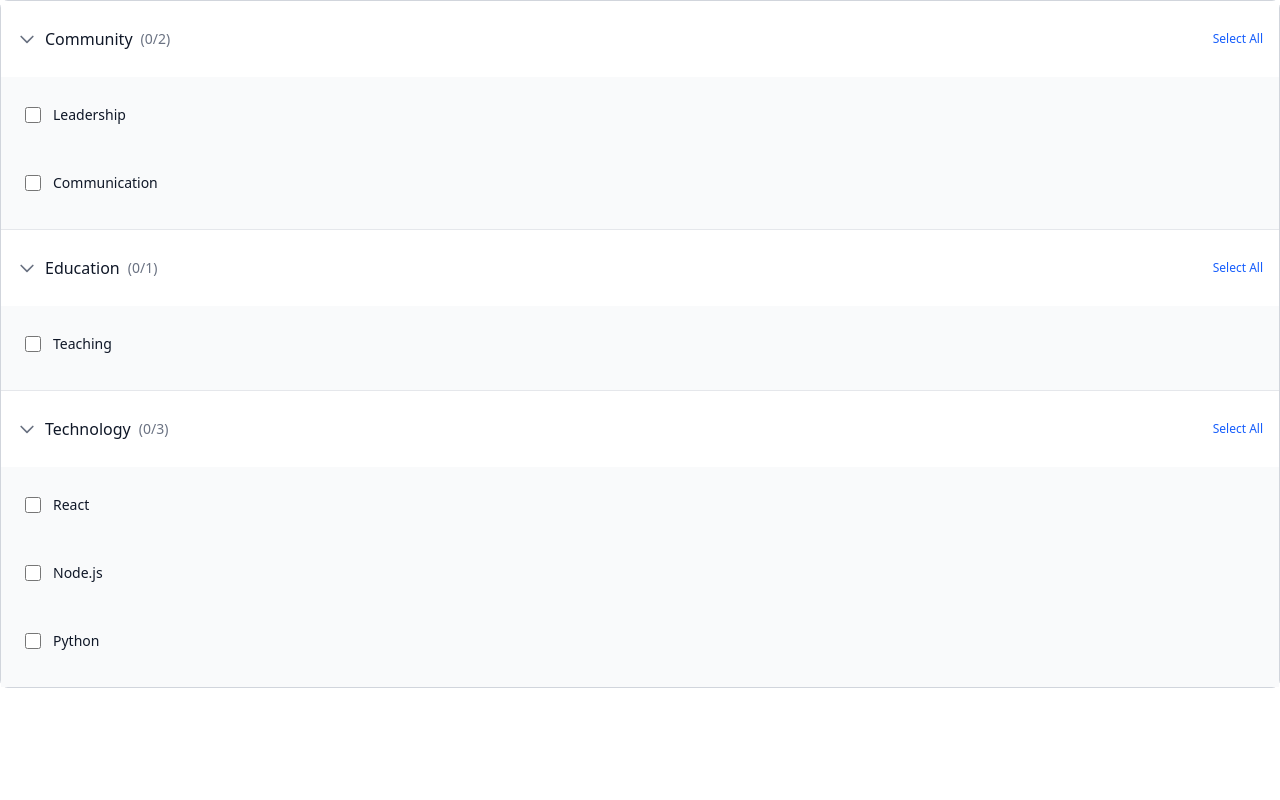
it: SkillSelector › collapses and expands categories on header click
Check: the text "React" is shown, box [53,495,89,515]
Click Technology header to collapse
Click the text "Technology" at (88, 429), box [45,417,131,441]
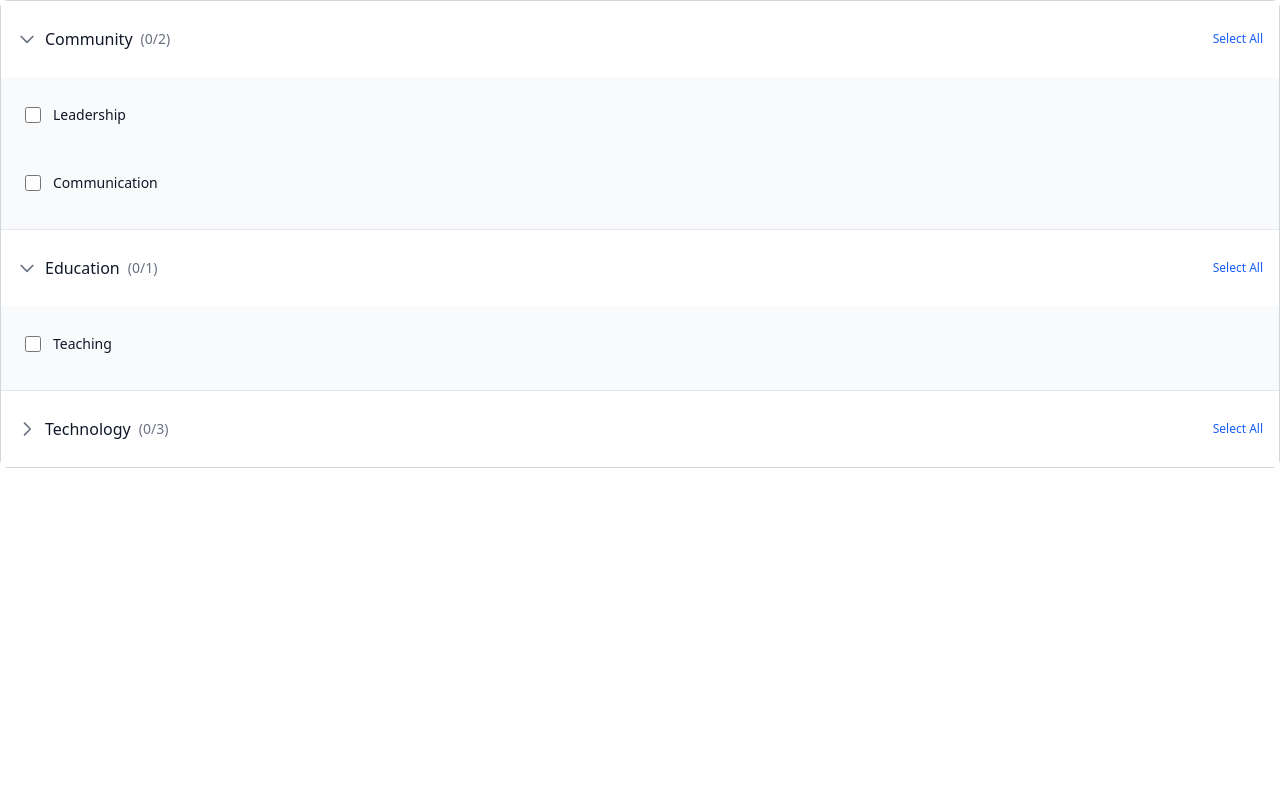
Check: the text "React" is gone
Click again to expand
Click the text "Technology" at (88, 429), box [45,417,131,441]
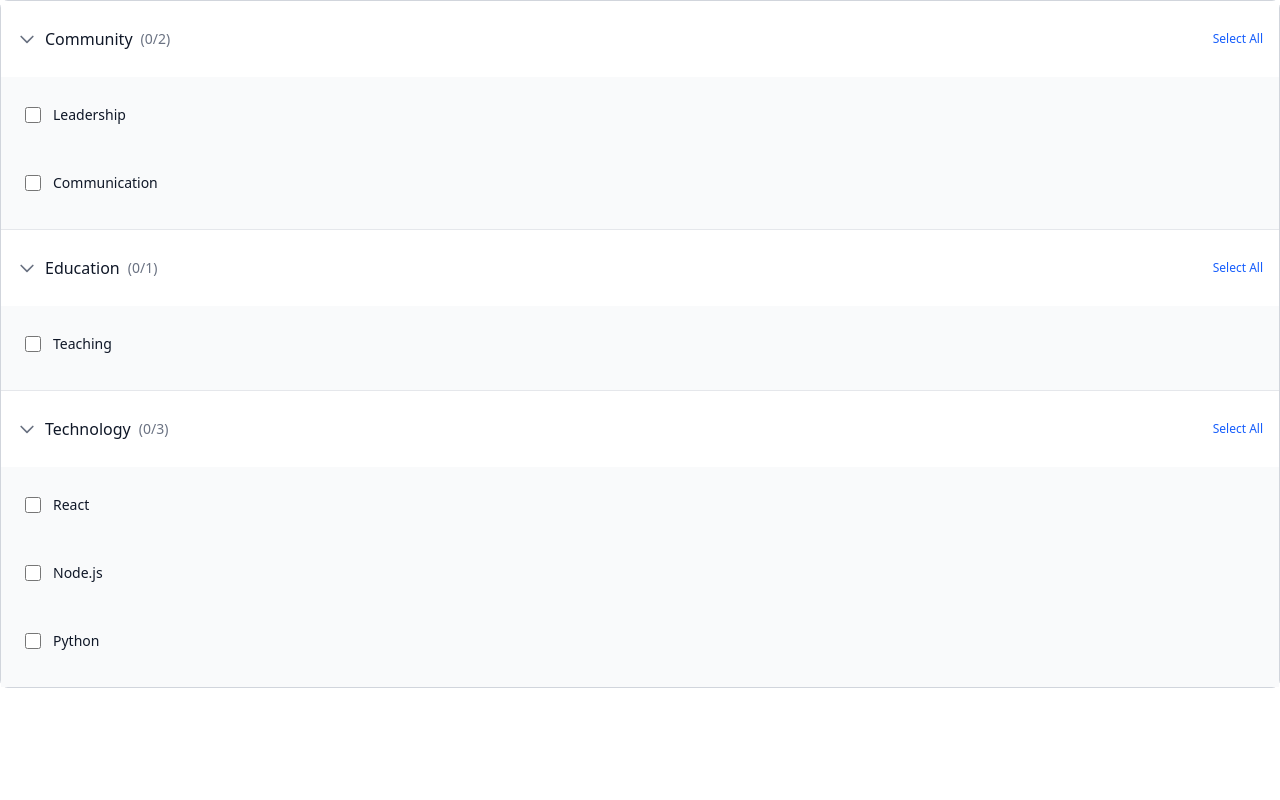
Check: the text "React" is shown, box [53,495,89,515]
